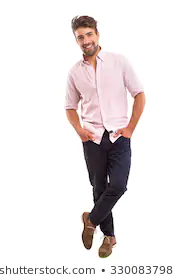person: (62, 17, 147, 111)
